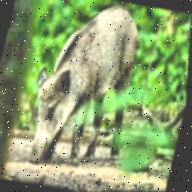boar: (9, 0, 158, 190)
